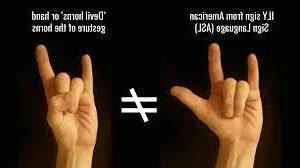Love-You: (169, 42, 266, 166)
Rock: (35, 44, 98, 168)
